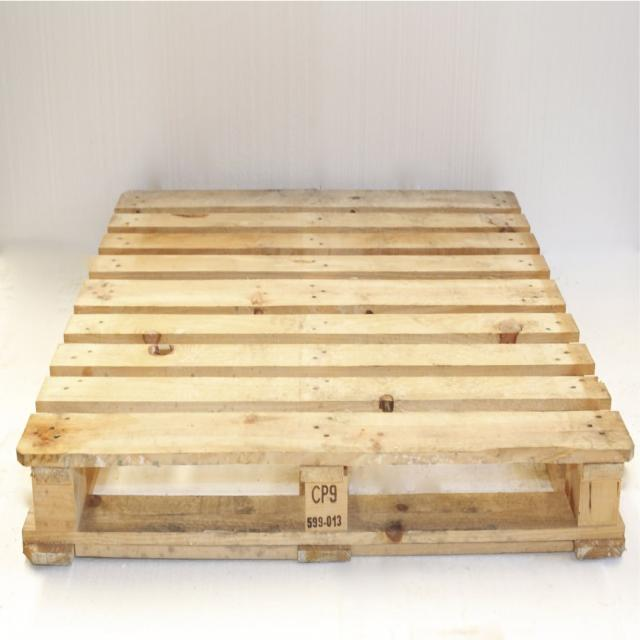Palette: (10, 180, 640, 576)
